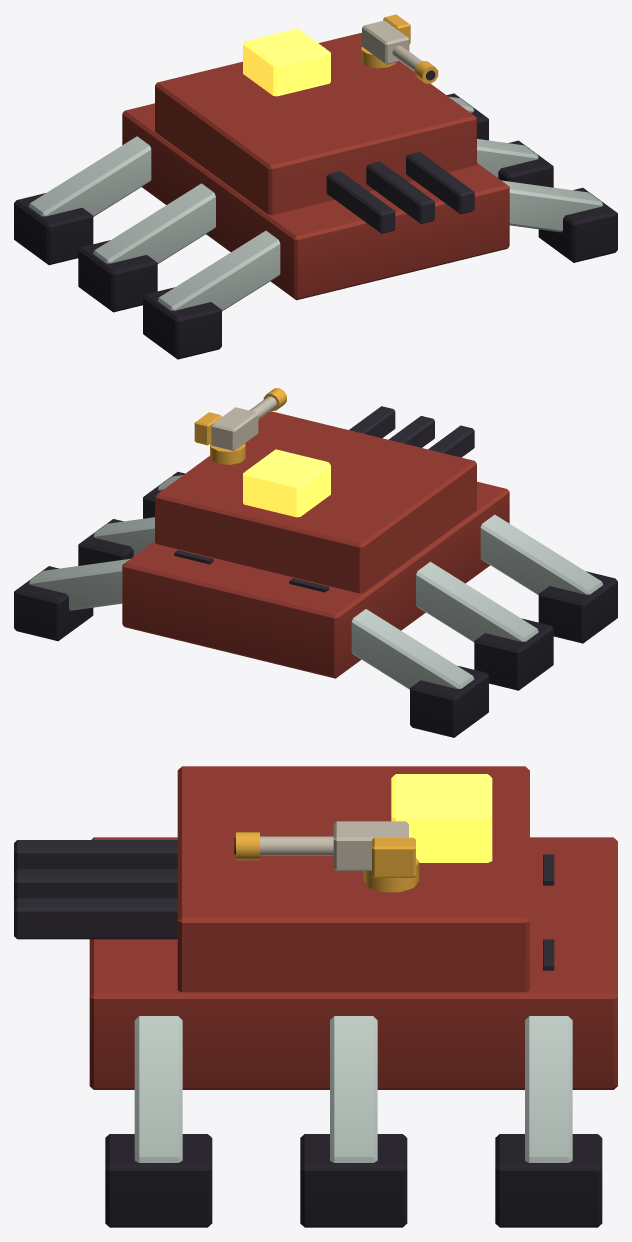
Rendered from ironsovereign2.glb.
3 renders of one model, top to bottom at view 1: azimuth 30°, elevation 25°; view 2: azimuth 150°, elevation 25°; view 3: azimuth 270°, elevation 25°, orthographic. The views are drawn at different scales.
Visible parts, largest first — view 1: Carapace, Chassis, Cannon, Strut, Strut.004, Strut.002, Core, Foot, Foot.002, Foot.004, Strut.001, Foot.001 (+4 smaller); view 2: Carapace, Chassis, Strut.004, Strut, Strut.002, Core, Foot.004, Foot, Foot.002, Strut.005, Foot.005, Cannon (+5 smaller); view 3: Carapace, Chassis, Cannon, Foot.003, Foot.001, Foot.005, Core, Strut.001, Strut.003, Strut.005, Auxiliary receiver, Auxiliary swivel (+1 smaller).
Boxes of the visible parts, left/top/right/bottom form: Carapace: left=155, top=33, right=476, bottom=215; Chassis: left=122, top=103, right=509, bottom=300; Cannon: left=326, top=151, right=474, bottom=233; Strut: left=157, top=230, right=280, bottom=311; Strut.004: left=29, top=136, right=151, bottom=216; Strut.002: left=93, top=183, right=215, bottom=263; Core: left=243, top=28, right=330, bottom=96; Foot: left=143, top=287, right=221, bottom=359; Foot.002: left=78, top=240, right=157, bottom=312; Foot.004: left=14, top=193, right=93, bottom=265; Strut.001: left=501, top=180, right=602, bottom=232; Foot.001: left=538, top=187, right=617, bottom=262; Carapace: left=155, top=411, right=476, bottom=593; Chassis: left=122, top=481, right=509, bottom=678; Strut.004: left=351, top=609, right=474, bottom=689; Strut: left=480, top=514, right=602, bottom=595; Strut.002: left=416, top=561, right=538, bottom=642; Core: left=243, top=449, right=330, bottom=517; Foot.004: left=410, top=665, right=488, bottom=737; Foot: left=538, top=571, right=617, bottom=643; Foot.002: left=474, top=618, right=553, bottom=690; Strut.005: left=28, top=559, right=129, bottom=610; Foot.005: left=14, top=566, right=93, bottom=641; Cannon: left=349, top=406, right=474, bottom=457; Carapace: left=177, top=766, right=529, bottom=992; Chassis: left=89, top=837, right=617, bottom=1089; Cannon: left=14, top=840, right=177, bottom=939; Foot.003: left=300, top=1134, right=407, bottom=1227; Foot.001: left=105, top=1134, right=212, bottom=1227; Foot.005: left=495, top=1134, right=602, bottom=1227; Core: left=391, top=774, right=492, bottom=862; Strut.001: left=134, top=1016, right=182, bottom=1162; Strut.003: left=330, top=1016, right=377, bottom=1162; Strut.005: left=525, top=1016, right=572, bottom=1162; Auxiliary receiver: left=260, top=821, right=408, bottom=870; Auxiliary swivel: left=236, top=832, right=419, bottom=892.
Bounding box in the file's own units: 11.68 × 4.89 × 9.12.
